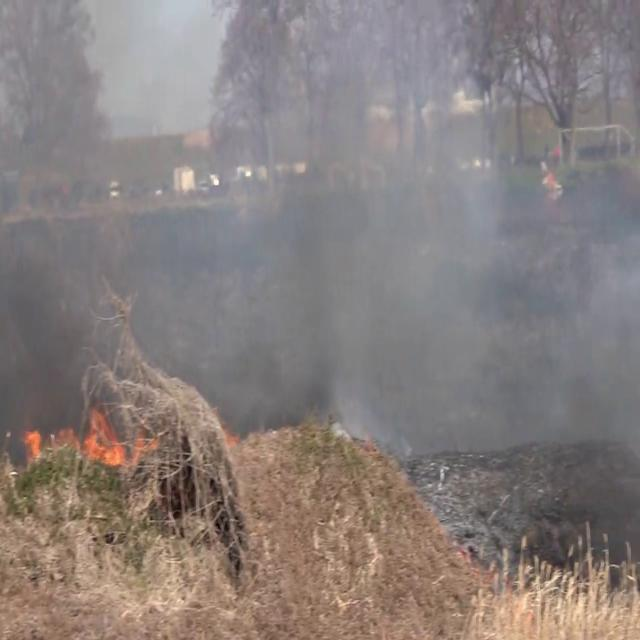Fire: (78, 400, 130, 470), (18, 410, 77, 470)
Smoke: (2, 0, 640, 527)
